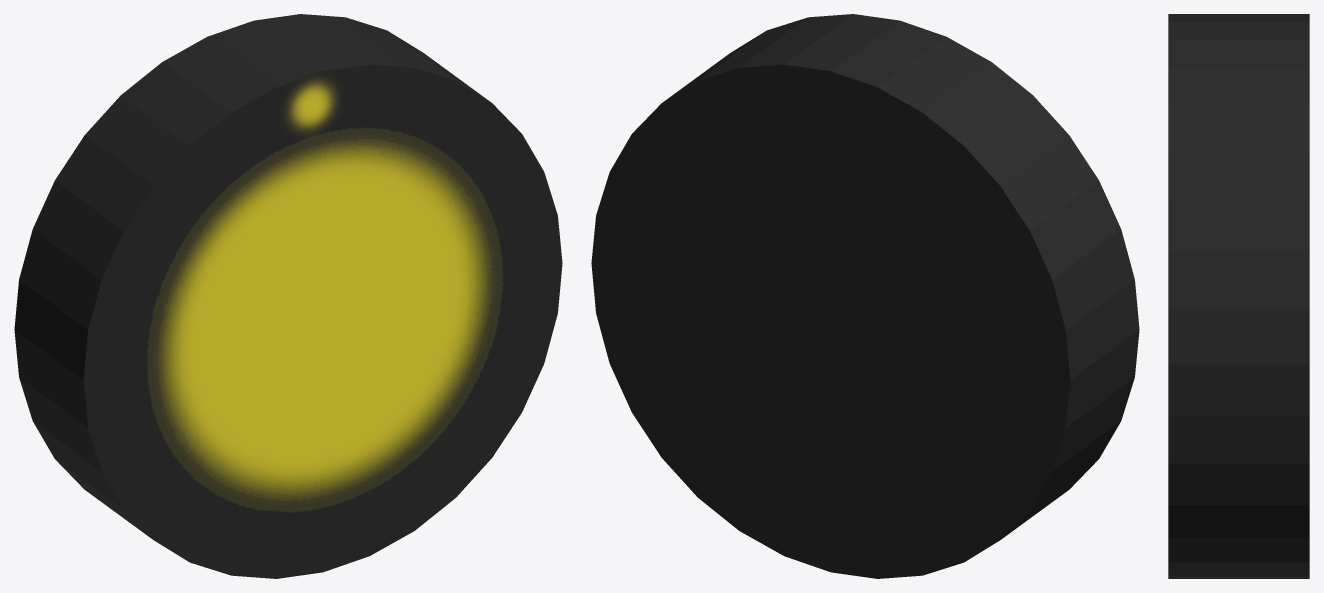
Rendered from basic-wheel.glb.
3 views of the same model, side by side, from view 1: azimuth 30°, elevation 25°; view 2: azimuth 150°, elevation 25°; view 3: azimuth 270°, elevation 25° (orthographic). The views are drawn at different scales.
Visible parts, largest first — view 1: Cylinder; view 2: Cylinder; view 3: Cylinder.
Part boxes in pixels (x1,y1,x2,y2): Cylinder: [14, 14, 562, 578]; Cylinder: [591, 14, 1139, 578]; Cylinder: [1168, 14, 1309, 578].
Size of the model in its own units: 2 by 2 by 0.5.
1 material, 1 textured.
